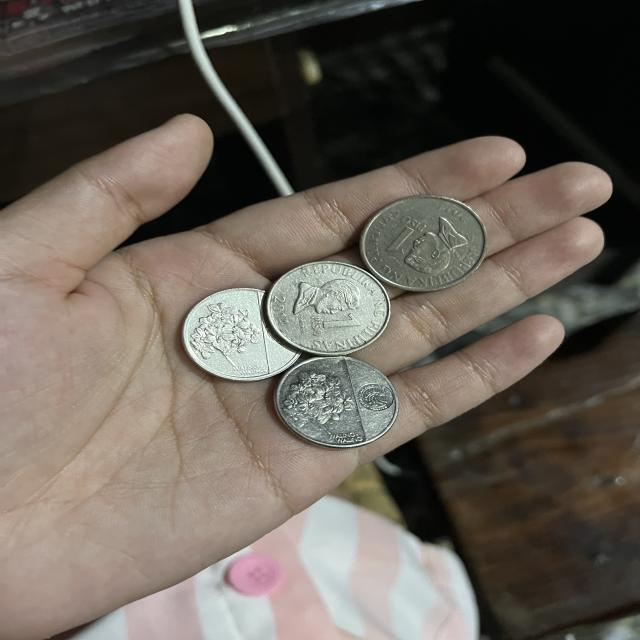1_New_Back: (183, 298, 274, 367), (287, 365, 359, 432)
1_Old_Front: (374, 210, 434, 254), (304, 312, 374, 338)
